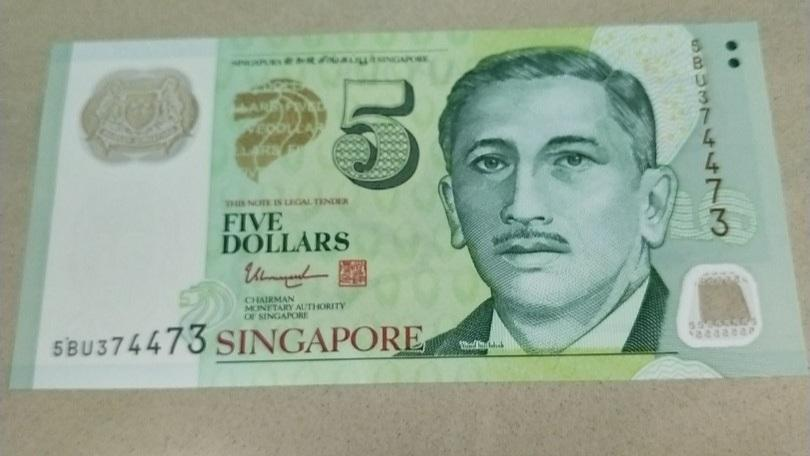5SingaporeDollar: (40, 35, 756, 379)
